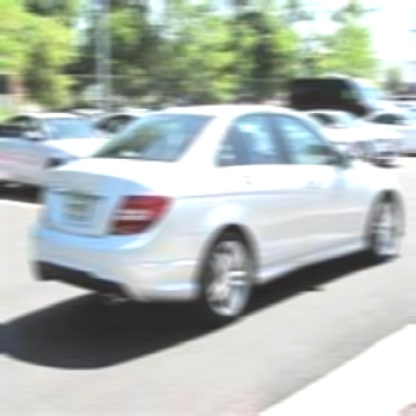Vehicle: (30, 106, 405, 324)
